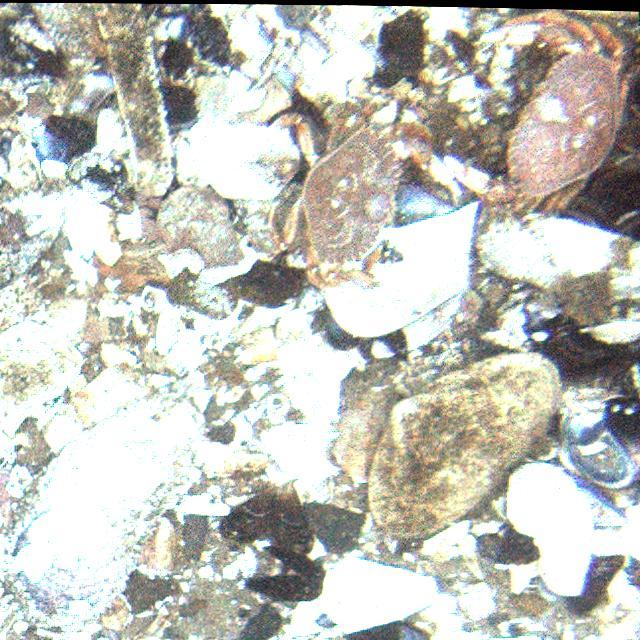crab: (479, 10, 629, 212), (278, 128, 404, 282)
